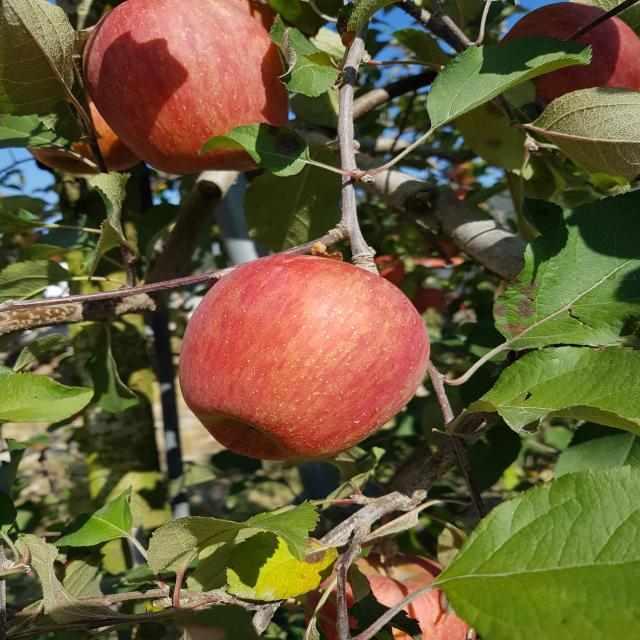fresh: (169, 248, 444, 476)
